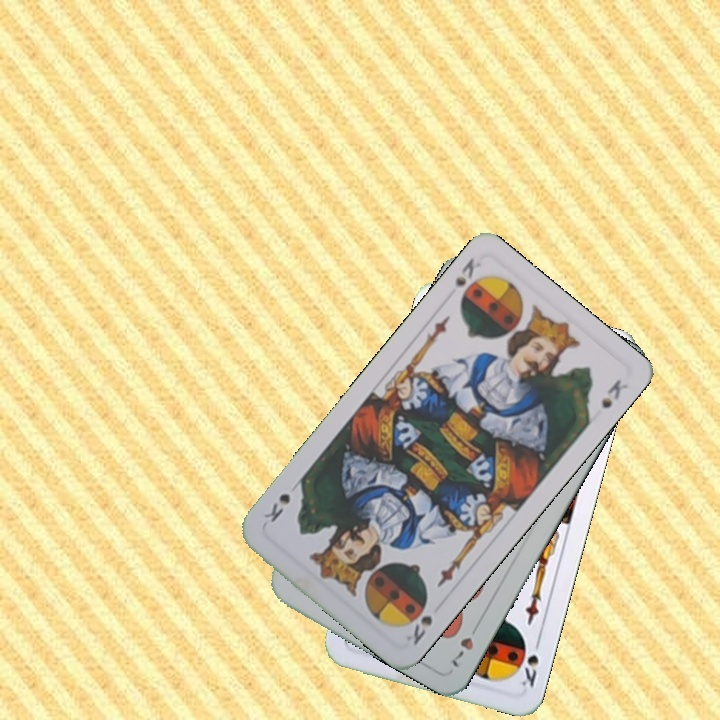H7: (446, 618, 483, 671)
SK: (517, 633, 543, 690), (402, 611, 435, 648), (451, 253, 484, 290)
